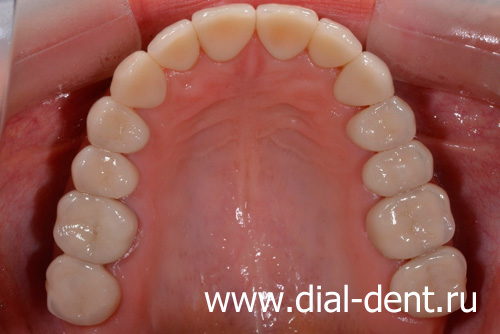UL1BC_healthy: (348, 96, 415, 151)
UL1M_healthy: (368, 185, 455, 258)
UL2BC_healthy: (362, 141, 433, 195)
ULCI_healthy: (256, 4, 317, 60)
ULC_healthy: (335, 53, 393, 105)
ULLI_healthy: (312, 18, 362, 68)
UR1BC_healthy: (87, 96, 150, 153)
UR1M_healthy: (54, 194, 132, 262)
UR2BC_healthy: (72, 147, 138, 199)
UR2M_healthy: (48, 257, 118, 324)
URCI_healthy: (194, 5, 254, 58)
URC_healthy: (111, 51, 166, 107)
URLI_healthy: (148, 19, 197, 70)
